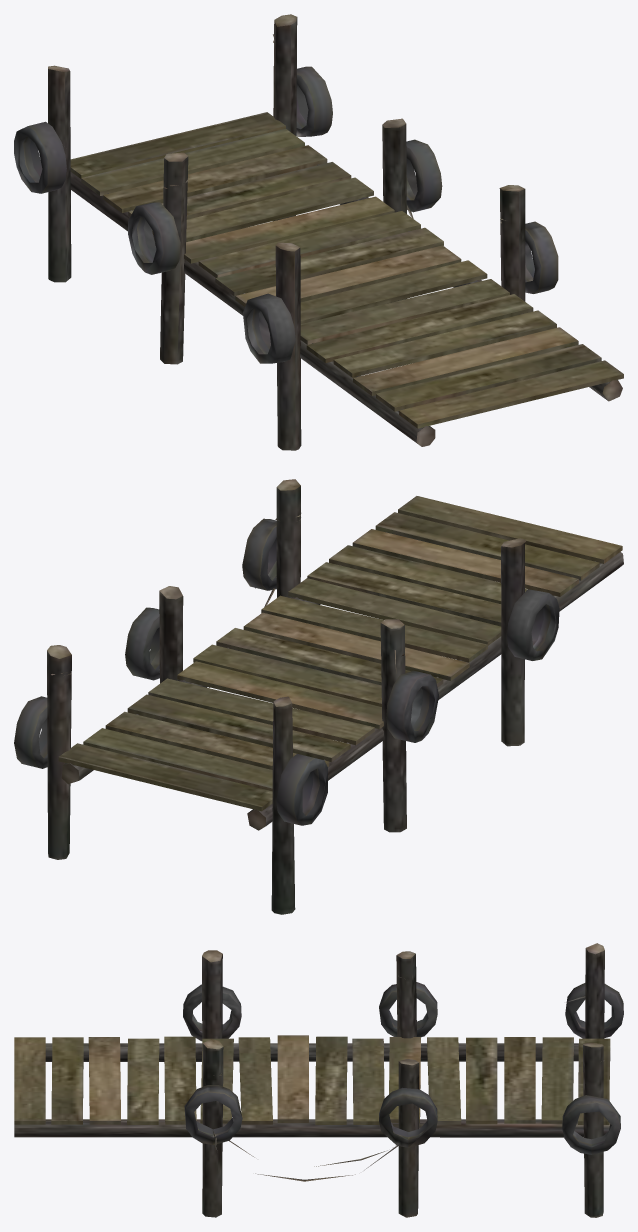
The model's file is old-pier.zfix-v14.lod1.glb.
The picture shows the model from 3 angles, top to bottom: view 1: azimuth 30°, elevation 25°; view 2: azimuth 150°, elevation 25°; view 3: azimuth 270°, elevation 25°; orthographic projection. The views are drawn at different scales.
Parts seen in each view (by area): view 1: defaultMaterial; view 2: defaultMaterial; view 3: defaultMaterial.
Part boxes in pixels (x1,y1,x2,y2): defaultMaterial: (14,14,623,450); defaultMaterial: (14,479,623,914); defaultMaterial: (14,943,623,1217).
Size of the model in its own units: 18.08 by 12.69 by 40.01.
1 material, 1 textured.
